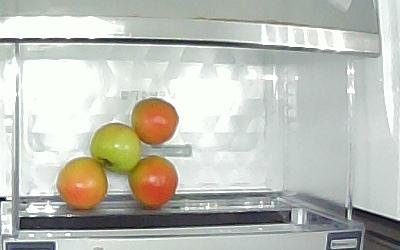tomato: (56, 156, 108, 208), (129, 155, 178, 209), (91, 122, 141, 172), (132, 98, 179, 145)
